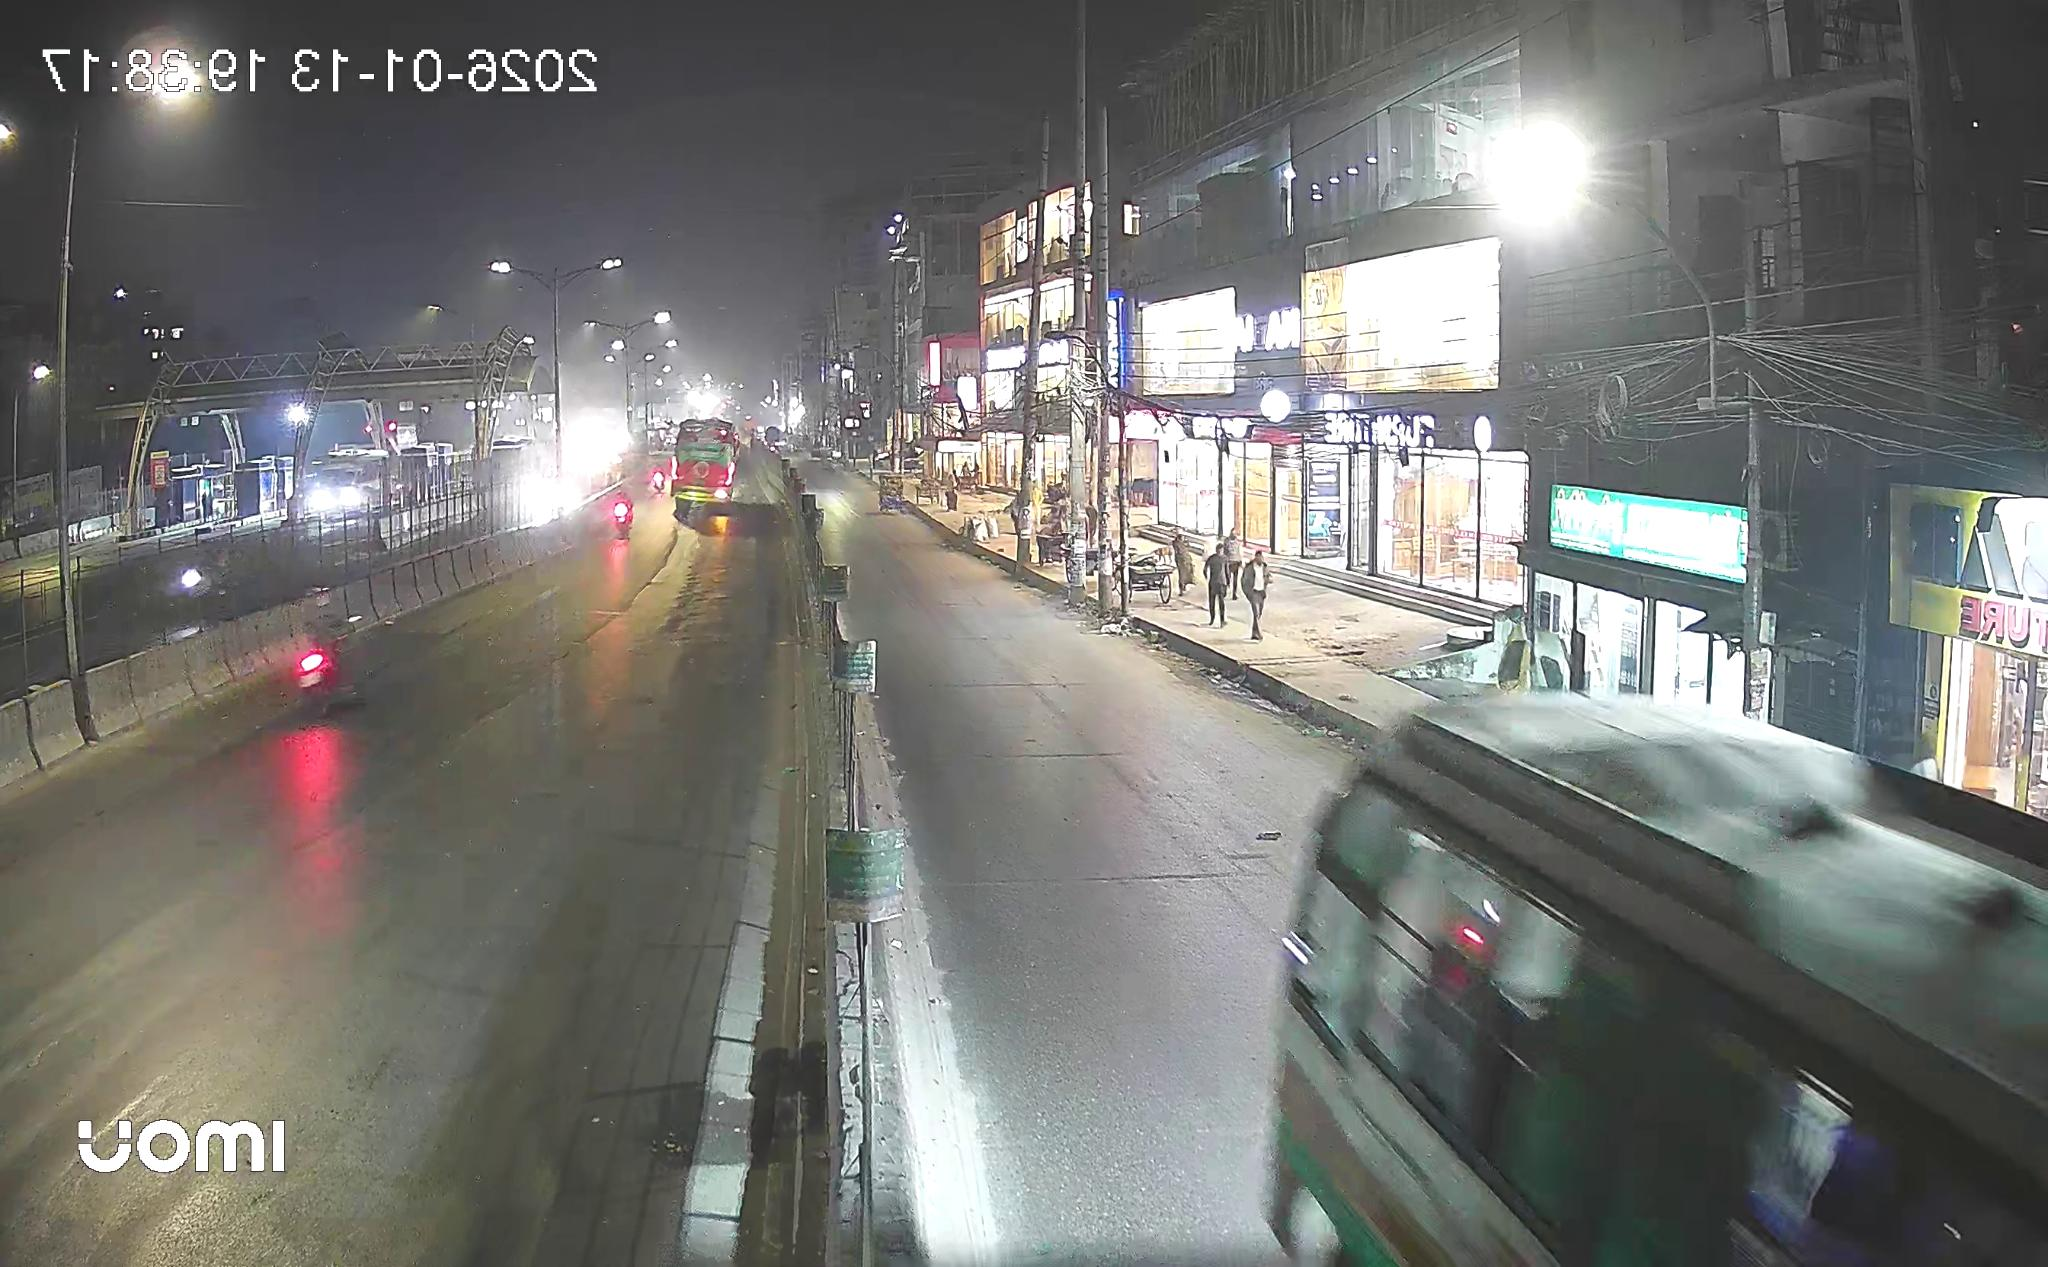Bus: (1270, 693, 2048, 1267), (652, 418, 742, 527)
